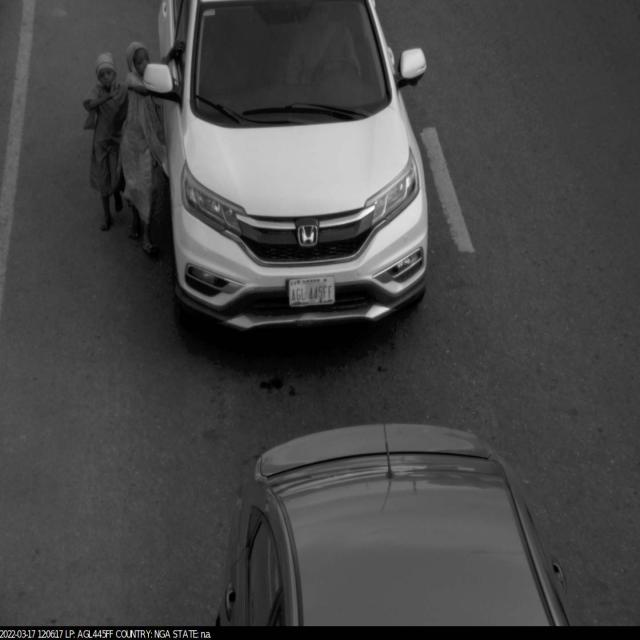windshield: (184, 0, 400, 131)
